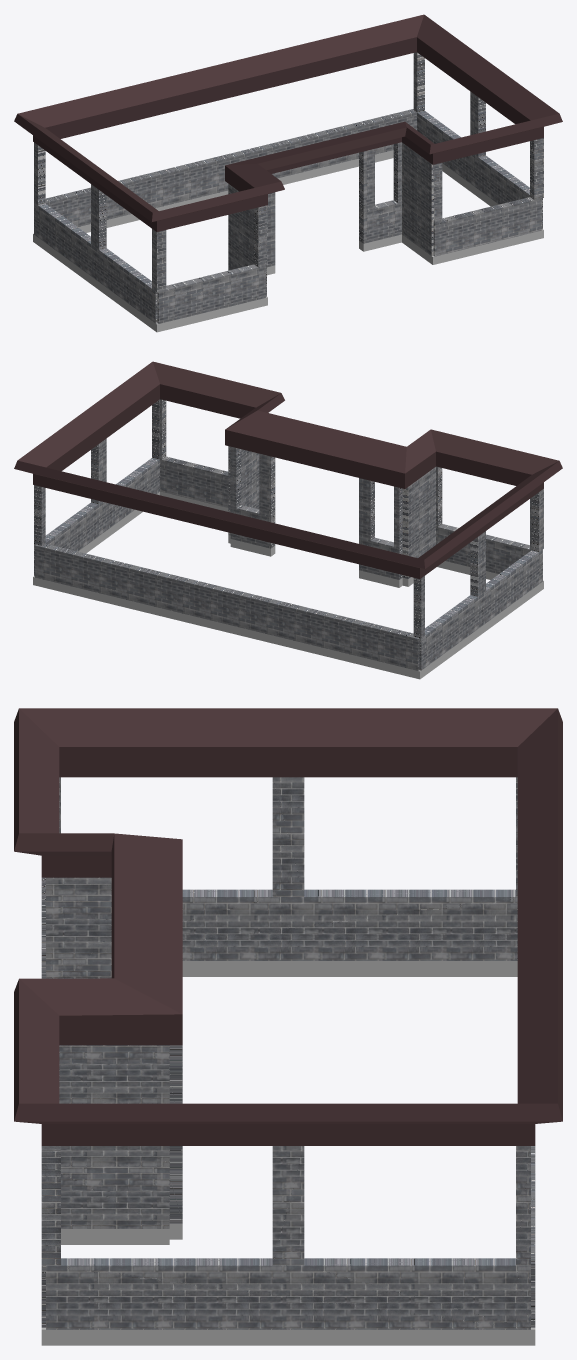
Rendered from qingliangting-wall.gltf.
The picture shows the model from 3 angles, top to bottom: view 1: azimuth 30°, elevation 25°; view 2: azimuth 150°, elevation 25°; view 3: azimuth 270°, elevation 25°; orthographic projection. The views are drawn at different scales.
Parts seen in each view (by area): view 1: Cube.015; view 2: Cube.015; view 3: Cube.015.
Boxes of the visible parts, box(x1,y1,x2,y2) form: Cube.015: box(14, 14, 562, 332); Cube.015: box(14, 361, 562, 679); Cube.015: box(14, 708, 562, 1345).
Bounding box in the file's own units: 10.73 × 3.15 × 6.23.
3 materials, 1 textured.
